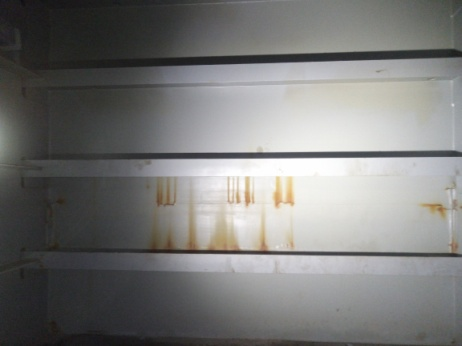corrosion: (206, 211, 249, 250), (221, 178, 261, 208), (184, 198, 206, 248), (144, 182, 182, 210), (251, 207, 272, 249), (269, 178, 298, 206), (148, 220, 178, 245), (410, 201, 452, 217), (281, 219, 299, 250)
